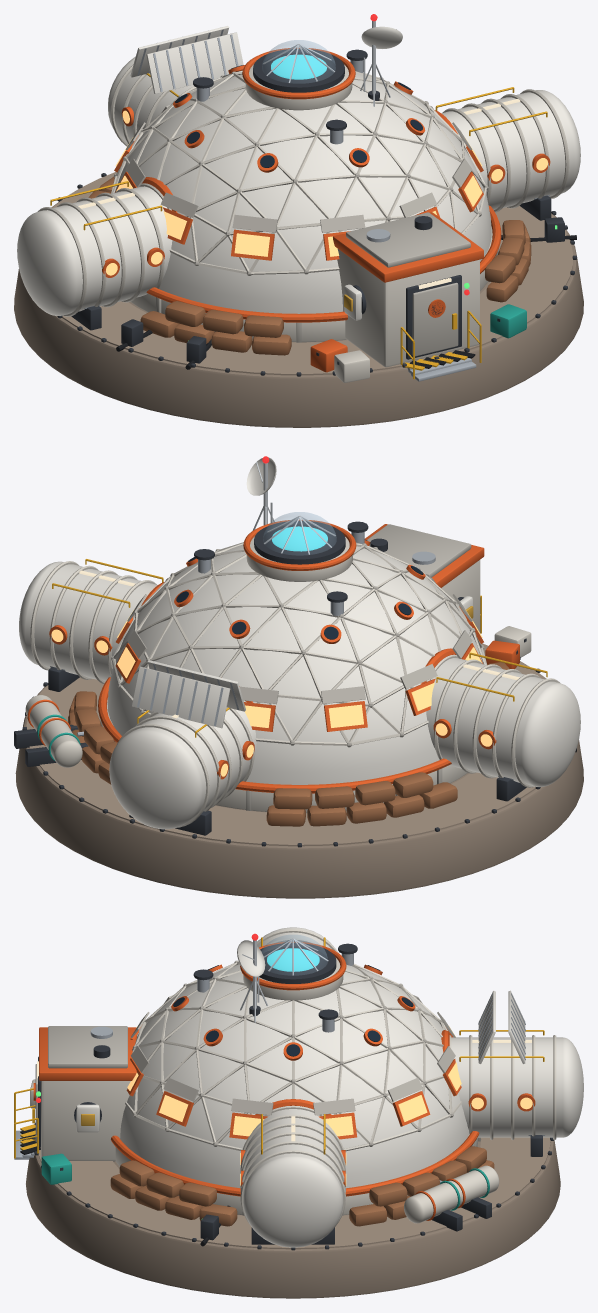
Rendered from habitat.glb.
3 renders of one model, top to bottom at view 1: azimuth 30°, elevation 25°; view 2: azimuth 150°, elevation 25°; view 3: azimuth 270°, elevation 25°, orthographic. The views are drawn at different scales.
Visible parts, largest first — view 1: habitat; view 2: habitat; view 3: habitat.
Part boxes in pixels (x1,y1,x2,y2): habitat: [14, 14, 583, 427]; habitat: [14, 456, 583, 898]; habitat: [14, 927, 583, 1298].
Bounding box in the file's own units: 8.35 × 4.4 × 8.19.
